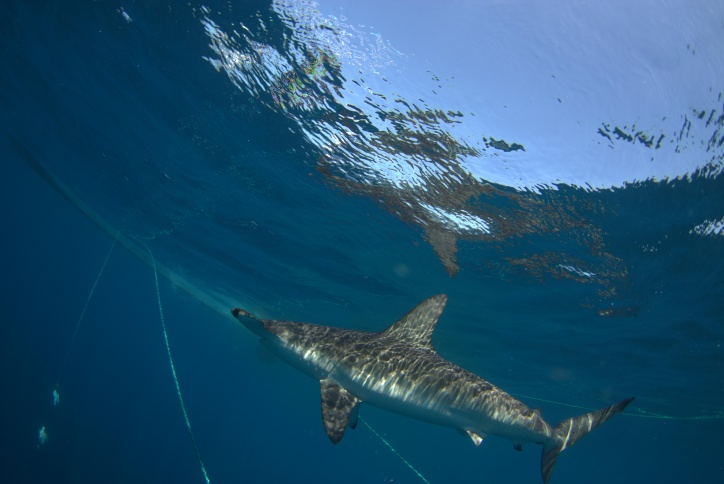Hammer: (207, 295, 647, 484)
